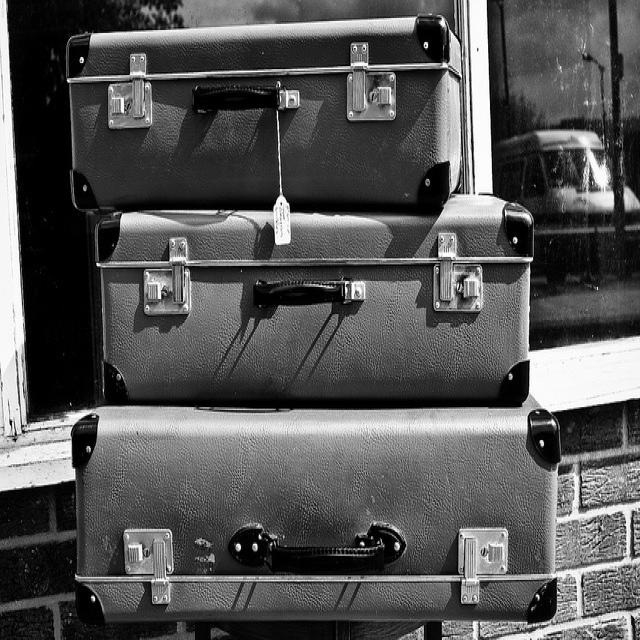truck: (490, 126, 639, 227)
